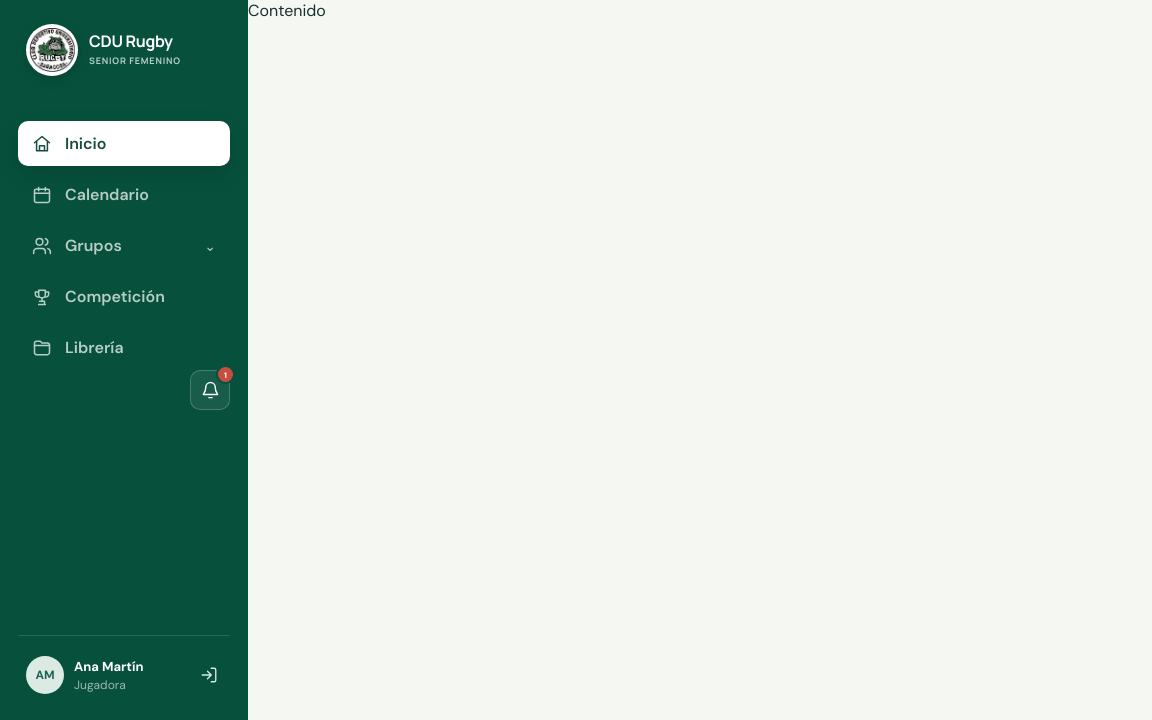
Scenario: AppLayout › opens profile details from a persistent notification and highlights missing fields
Click the button named "Avisos, 1 sin leer". click: {"x": 210, "y": 390}
box: [190,370,230,410]
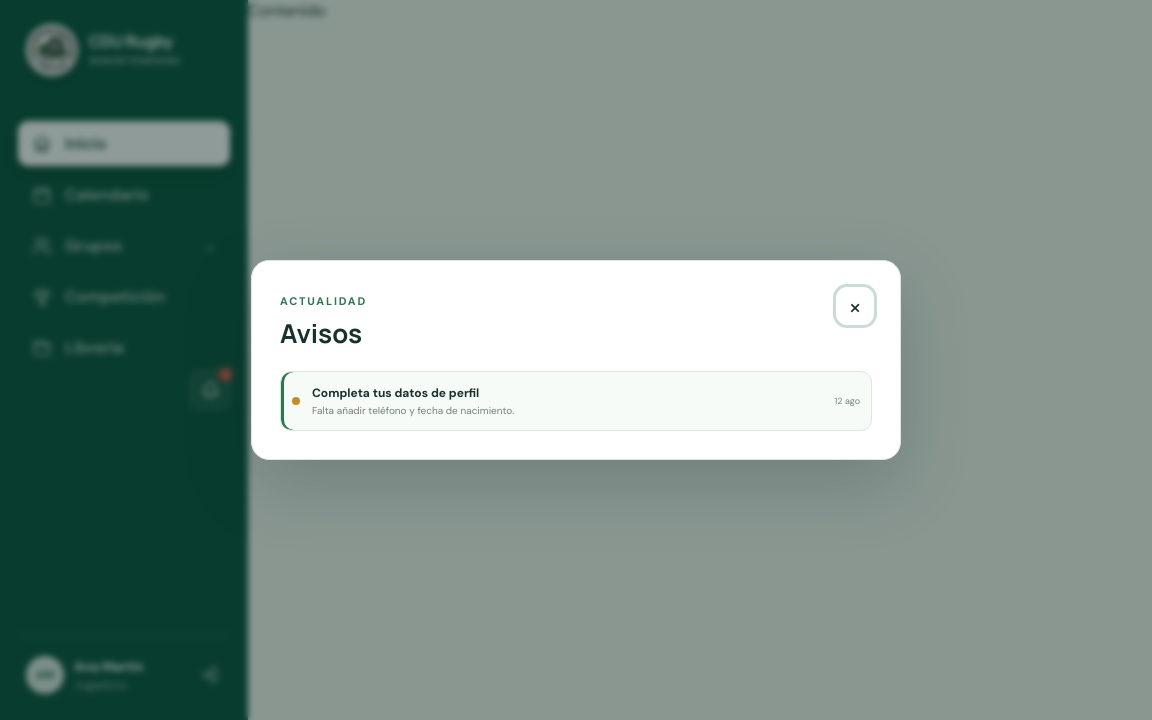
Click the button "Completa tus datos de perfil". click: {"x": 396, "y": 393}
box: [280,371,872,431]
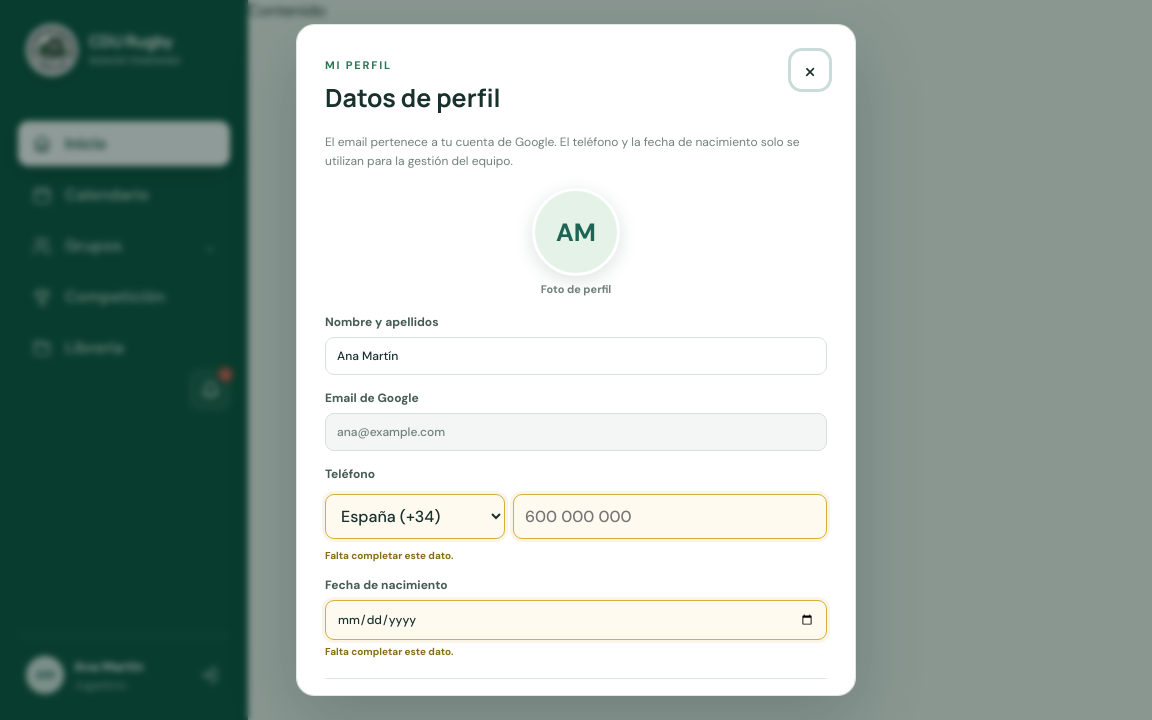
Now the field labelled "Teléfono" is shown, box [513,494,827,539]
